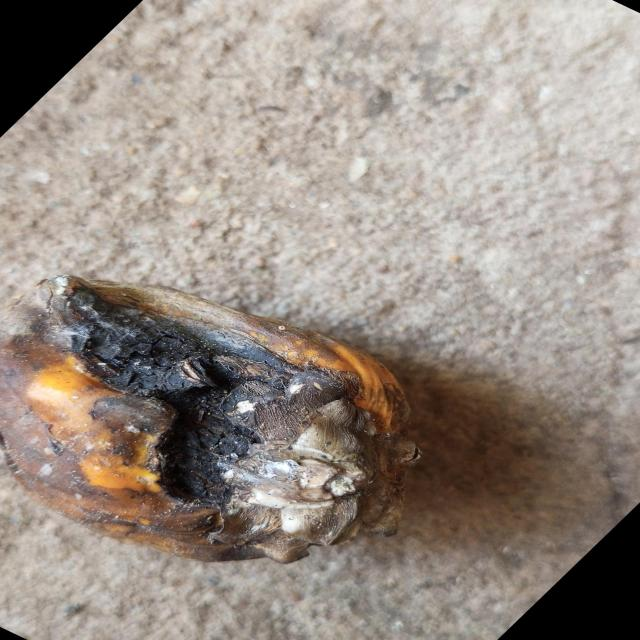damaged: (0, 275, 420, 563)
